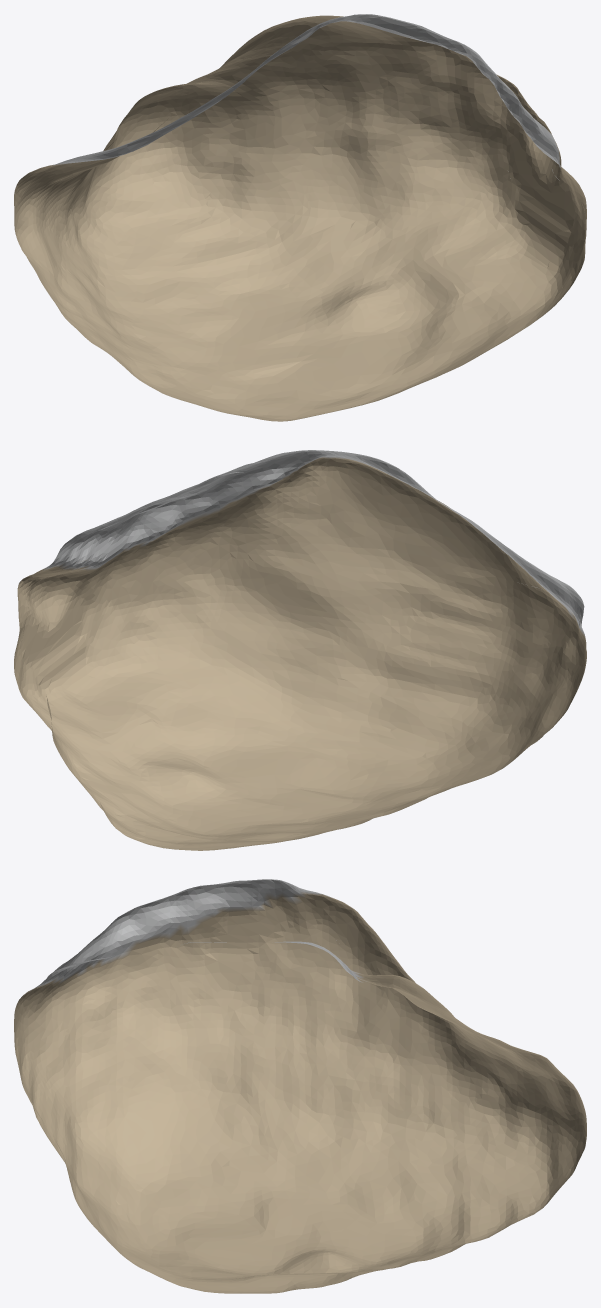
File: patella.glb
3 renders of one model, top to bottom at view 1: azimuth 30°, elevation 25°; view 2: azimuth 150°, elevation 25°; view 3: azimuth 270°, elevation 25°, orthographic. The views are drawn at different scales.
Parts seen in each view (by area): view 1: geometry_0; view 2: geometry_0; view 3: geometry_0.
Part boxes in pixels (x1,y1,x2,y2): geometry_0: [14, 14, 586, 421]; geometry_0: [14, 450, 586, 850]; geometry_0: [14, 879, 586, 1293].
Bounding box in the file's own units: 48.01 × 26.63 × 45.64.
